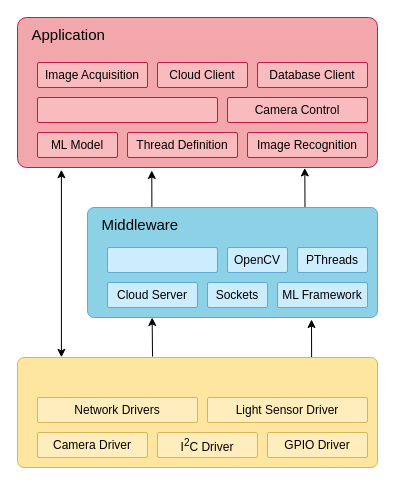
Image size: 395x485. Some labels were removed from this diagram. Each missing label, with the box of its shape:
Database Server: (106, 246, 218, 272)
Network Management: (36, 96, 218, 122)
OS & BSP: (16, 356, 378, 468)
